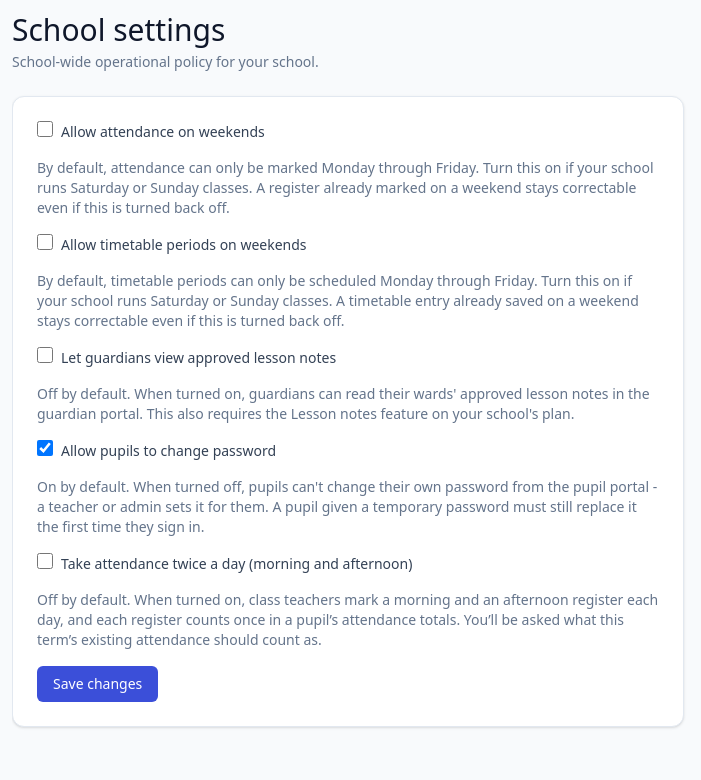
Test case: SchoolSettingsPage › toggles the guardian lesson notes setting independently of the weekend ones
The width and height of the screenshot is (701, 780).
Click the checkbox labelled "Let guardians view approved lesson notes" at (45, 355), box [37,347,53,363]
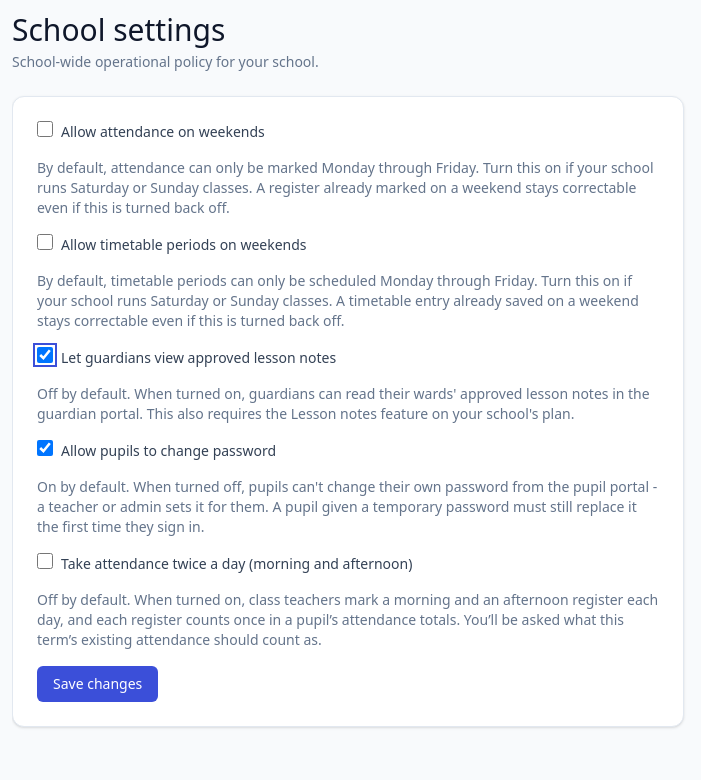
Check: the checkbox labelled "Let guardians view approved lesson notes" is checked, box [37,347,53,363]
Click the button "Save changes" at (98, 684), box [37,666,158,702]
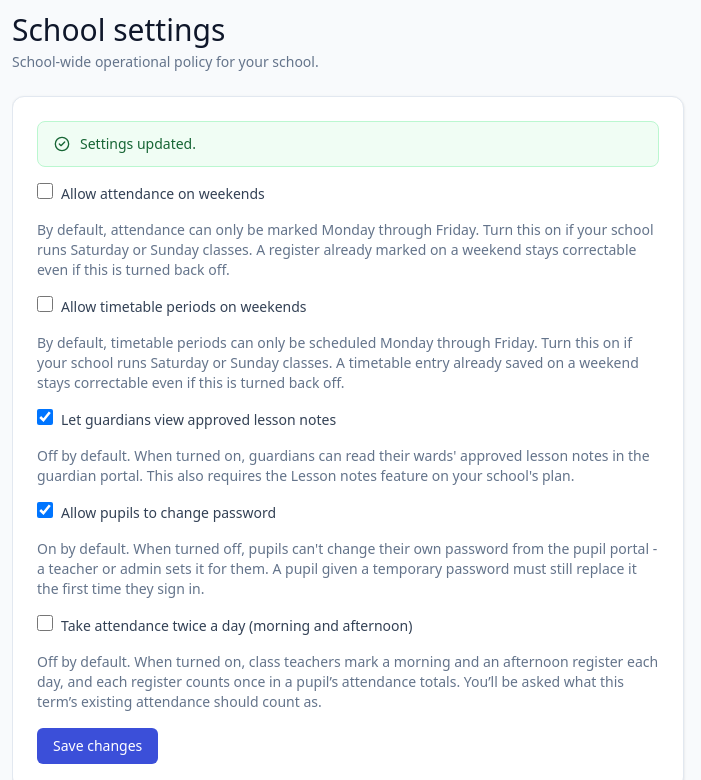
Check: the text "Settings updated." is shown, box [80,134,196,154]
